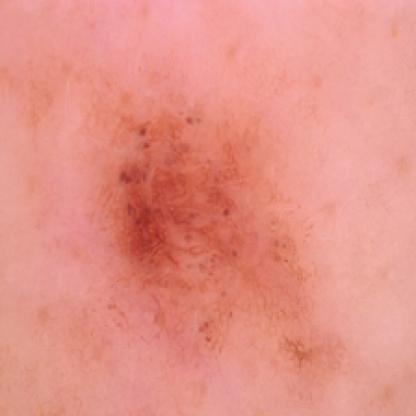benign: (117, 112, 277, 292)
